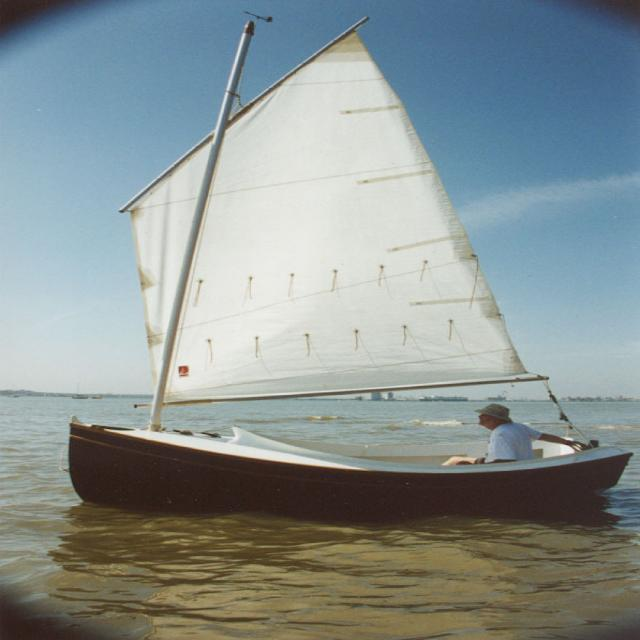Ship: (74, 20, 631, 512)
